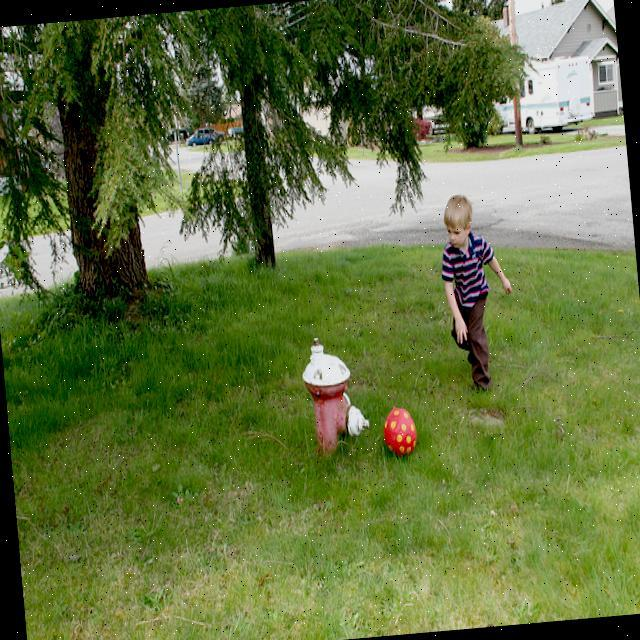fire_hydrant: (299, 330, 357, 463)
